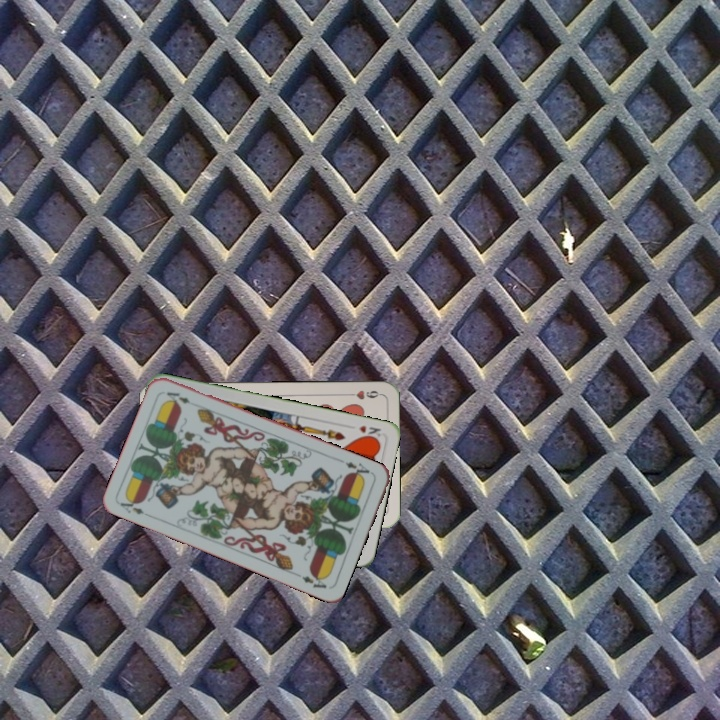EA: (341, 458, 376, 482), (116, 494, 147, 517)
H9: (343, 386, 383, 402)
HK: (354, 421, 383, 443)
